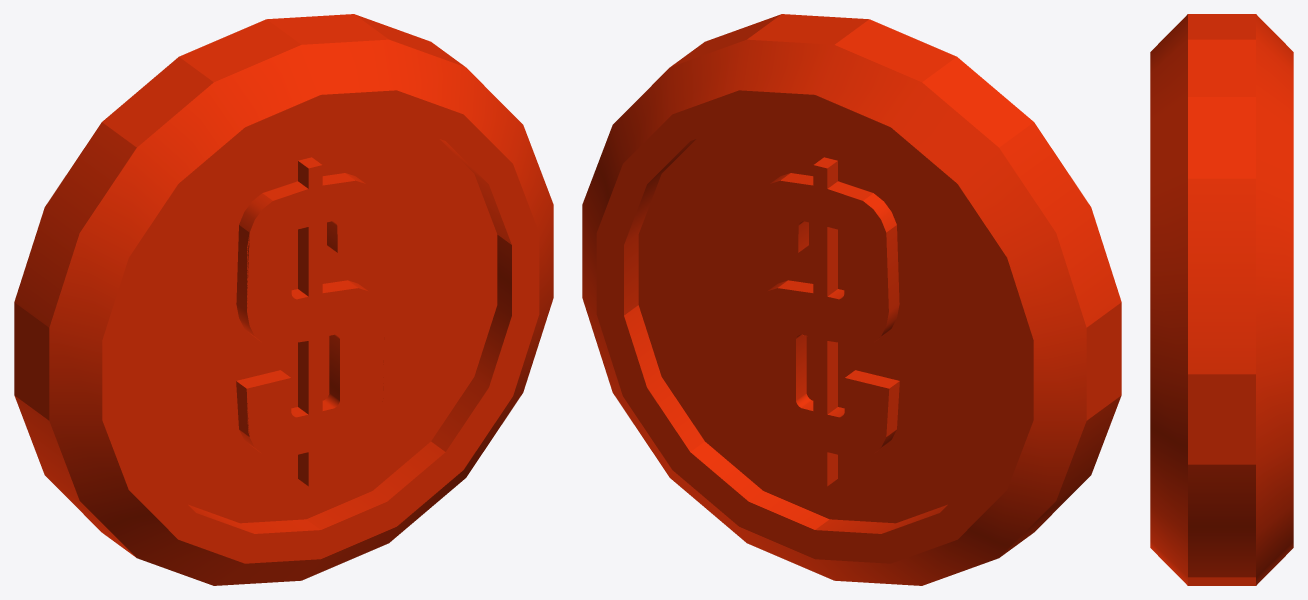
File: coppercoin.glb
The picture shows the model from 3 angles, left to right: view 1: azimuth 30°, elevation 25°; view 2: azimuth 150°, elevation 25°; view 3: azimuth 270°, elevation 25°; orthographic projection. The views are drawn at different scales.
Visible parts, largest first — view 1: Coin; view 2: Coin; view 3: Coin.
Part boxes in pixels (bbox=[...]): Coin: bbox=[14, 14, 553, 585]; Coin: bbox=[582, 14, 1121, 585]; Coin: bbox=[1150, 14, 1293, 585].
Size of the model in its own units: 0.5909 by 0.6 by 0.15.
